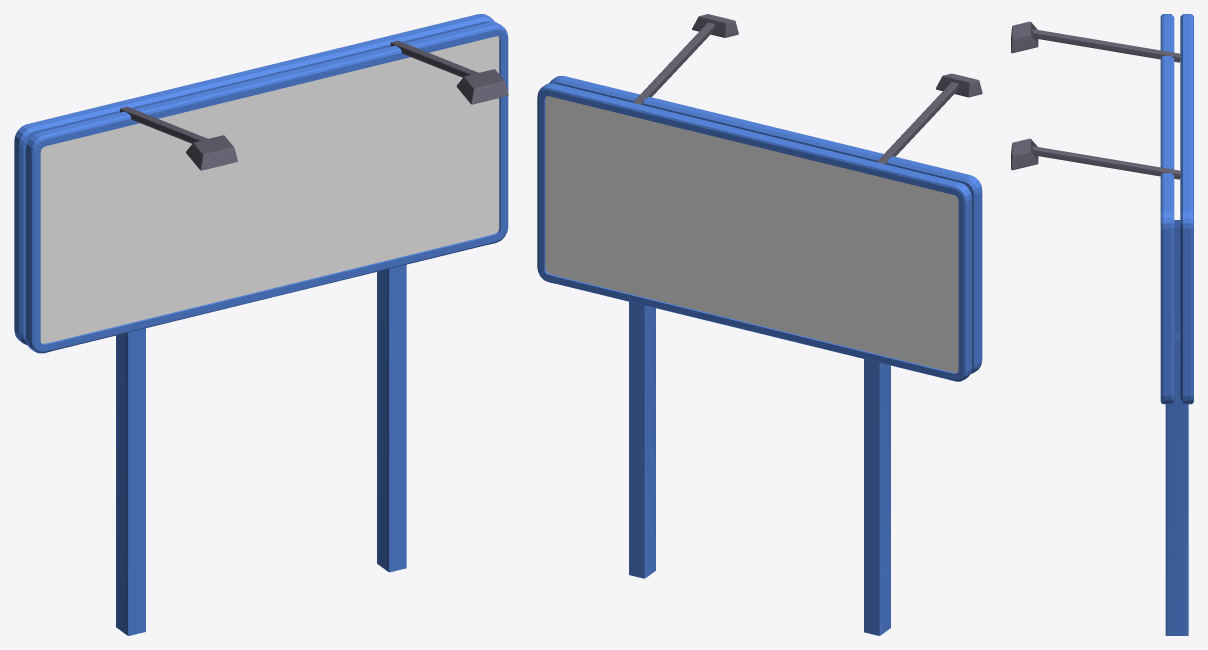
File: Ad_Board_04.fbx
3 renders of one model, left to right at view 1: azimuth 30°, elevation 25°; view 2: azimuth 150°, elevation 25°; view 3: azimuth 270°, elevation 25°, orthographic. The views are drawn at different scales.
Visible parts, largest first — view 1: Board_And_Piller_M_04, polySurface32, polySurface31, Light_02, Light_01; view 2: Board_And_Piller_M_04, polySurface32, polySurface31, Light_02, Light_01; view 3: Board_And_Piller_M_04, polySurface31, Light_01, Light_02, polySurface32.
Part boxes in pixels (x1=…): Board_And_Piller_M_04: x1=14, y1=14, x2=508, y2=353; polySurface32: x1=116, y1=328, x2=145, y2=635; polySurface31: x1=377, y1=264, x2=406, y2=572; Light_02: x1=120, y1=106, x2=237, y2=170; Light_01: x1=390, y1=40, x2=508, y2=104; Board_And_Piller_M_04: x1=537, y1=76, x2=982, y2=381; polySurface32: x1=864, y1=359, x2=890, y2=635; polySurface31: x1=629, y1=301, x2=655, y2=578; Light_02: x1=876, y1=73, x2=982, y2=164; Light_01: x1=633, y1=14, x2=738, y2=104; Board_And_Piller_M_04: x1=1160, y1=14, x2=1193, y2=404; polySurface31: x1=1165, y1=332, x2=1188, y2=635; Light_01: x1=1011, y1=138, x2=1180, y2=179; Light_02: x1=1011, y1=21, x2=1180, y2=62; polySurface32: x1=1174, y1=220, x2=1180, y2=332.
Bounding box in the file's own units: 6.28 × 6.94 × 2.35.
Materials: 1 (1 with a texture image).
